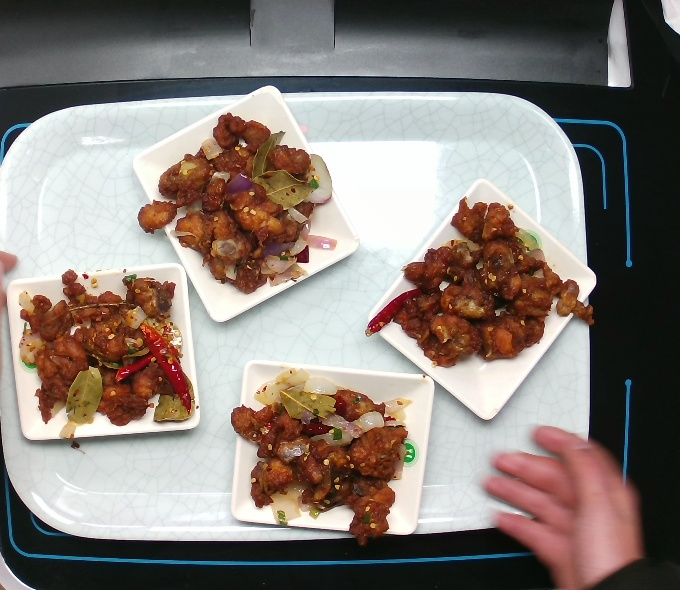wcq-LaZiJiKuai: (361, 195, 599, 370), (132, 110, 340, 295), (229, 365, 414, 548), (16, 268, 196, 434)
